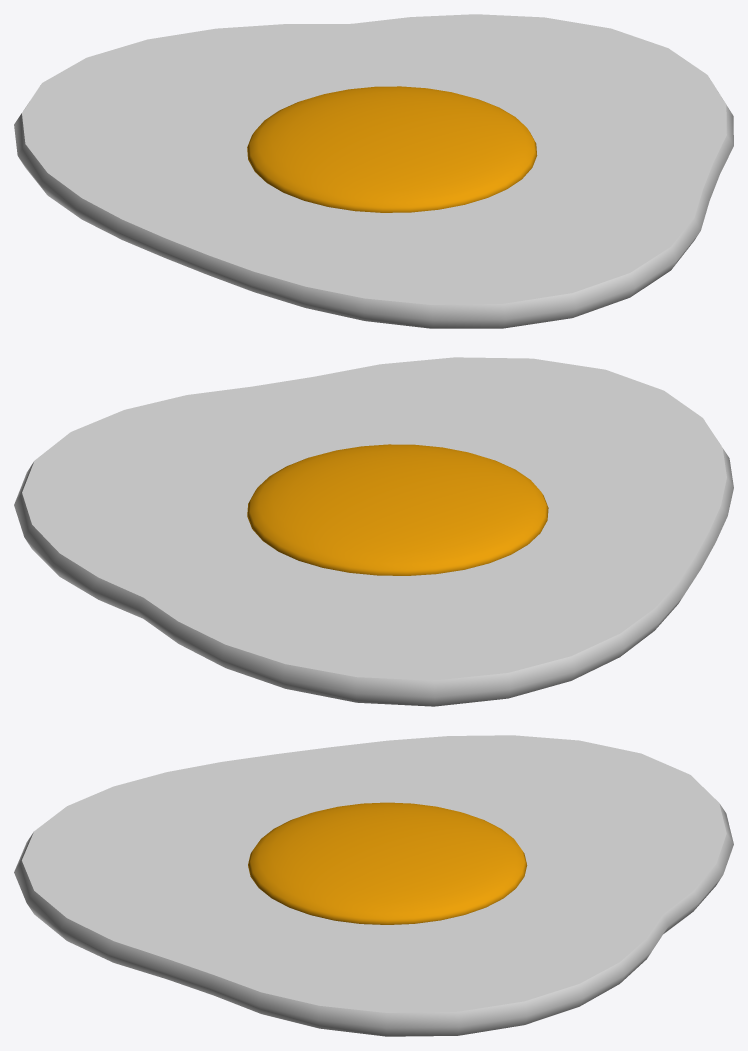
Rendered from CrakedEgg.fbx.
3 views of the same model, one above another, from view 1: azimuth 30°, elevation 25°; view 2: azimuth 150°, elevation 25°; view 3: azimuth 270°, elevation 25° (orthographic). The views are drawn at different scales.
Visible parts, largest first — view 1: Cylinder, Sphere; view 2: Cylinder, Sphere; view 3: Cylinder, Sphere.
Boxes of the visible parts, x1=… form: Cylinder: x1=14, y1=14, x2=733, y2=328; Sphere: x1=247, y1=86, x2=537, y2=212; Cylinder: x1=14, y1=357, x2=733, y2=706; Sphere: x1=247, y1=444, x2=548, y2=575; Cylinder: x1=14, y1=735, x2=733, y2=1036; Sphere: x1=248, y1=802, x2=527, y2=924.
Size of the model in its own units: 233 by 17.28 by 249.
